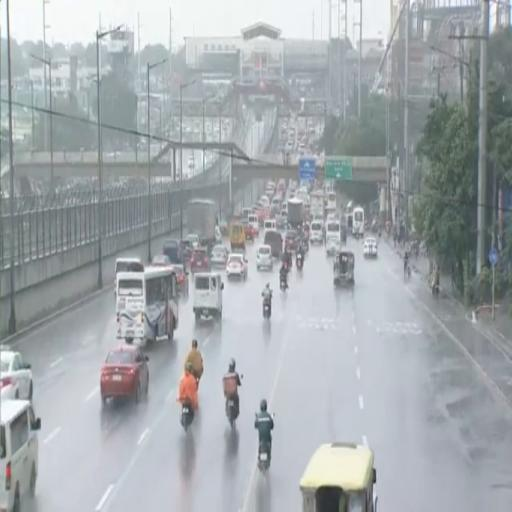bus: (117, 267, 178, 346), (326, 218, 341, 254), (352, 206, 364, 237), (326, 190, 336, 211)
car: (0, 400, 40, 511), (100, 345, 149, 405), (0, 346, 33, 399), (114, 258, 143, 294), (227, 253, 247, 279), (163, 239, 183, 264), (190, 248, 210, 273), (173, 240, 192, 264), (173, 265, 188, 295), (256, 245, 273, 269), (210, 246, 229, 266), (242, 220, 257, 242), (363, 237, 377, 258), (285, 230, 297, 250), (151, 254, 171, 266), (248, 214, 258, 237), (186, 234, 199, 248), (215, 226, 222, 243)
jeepney: (300, 443, 377, 511)
motorcycle: (226, 397, 239, 428), (257, 443, 270, 472), (181, 403, 194, 431), (263, 298, 271, 318), (432, 283, 439, 298), (280, 276, 287, 291), (297, 253, 303, 270)
truck: (187, 199, 217, 248), (288, 198, 303, 229), (310, 189, 324, 218)
